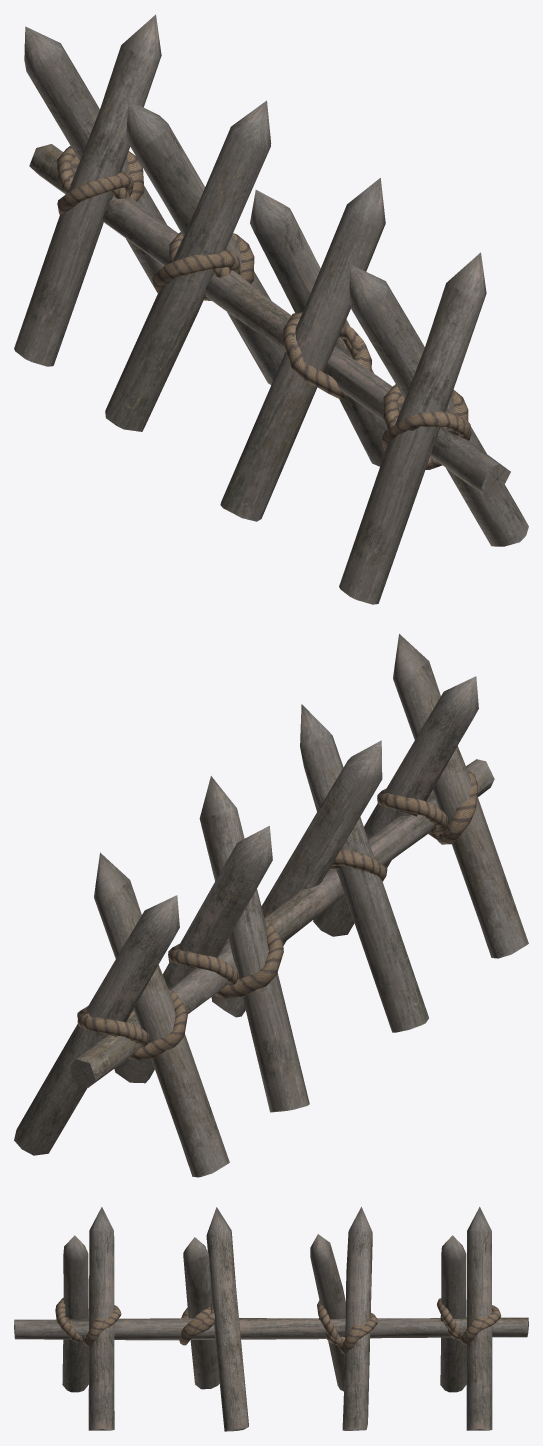
The model's file is SM_barrier_1.fbx.
The picture shows the model from 3 angles, top to bottom: view 1: azimuth 30°, elevation 25°; view 2: azimuth 150°, elevation 25°; view 3: azimuth 270°, elevation 25°; orthographic projection. The views are drawn at different scales.
Parts seen in each view (by area): view 1: SM_barrier_1_LOD0; view 2: SM_barrier_1_LOD0; view 3: SM_barrier_1_LOD0.
Part boxes in pixels (box(x1,y1,x2,y2)): SM_barrier_1_LOD0: box(14, 14, 528, 604); SM_barrier_1_LOD0: box(14, 634, 528, 1177); SM_barrier_1_LOD0: box(14, 1206, 528, 1431).
Size of the model in its own units: 94.65 by 345 by 138.
